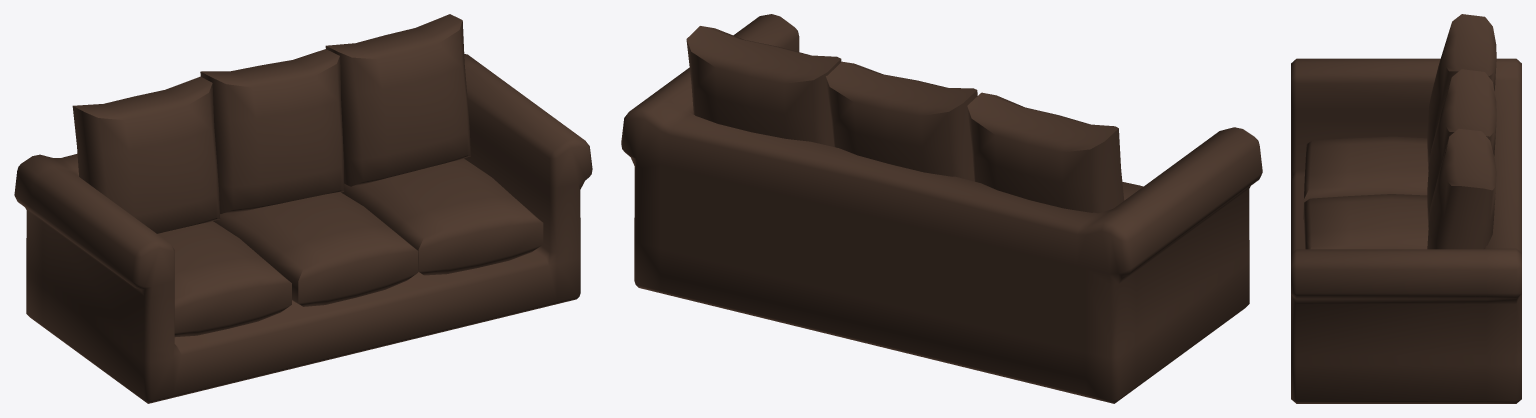
The model's file is pk_motion_brown.glb.
3 views of the same model, side by side, from view 1: azimuth 30°, elevation 25°; view 2: azimuth 150°, elevation 25°; view 3: azimuth 270°, elevation 25° (orthographic). The views are drawn at different scales.
Parts seen in each view (by area): view 1: pk_motion_brown; view 2: pk_motion_brown; view 3: pk_motion_brown.
Boxes of the visible parts, bbox=[...] form: pk_motion_brown: bbox=[14, 14, 592, 403]; pk_motion_brown: bbox=[621, 14, 1262, 403]; pk_motion_brown: bbox=[1291, 14, 1521, 403].
Size of the model in its own units: 2.15 by 1 by 1.
Materials: 1 (1 with a texture image).
